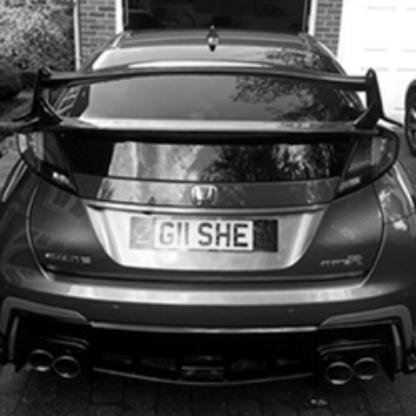license plate: (124, 211, 282, 255)
